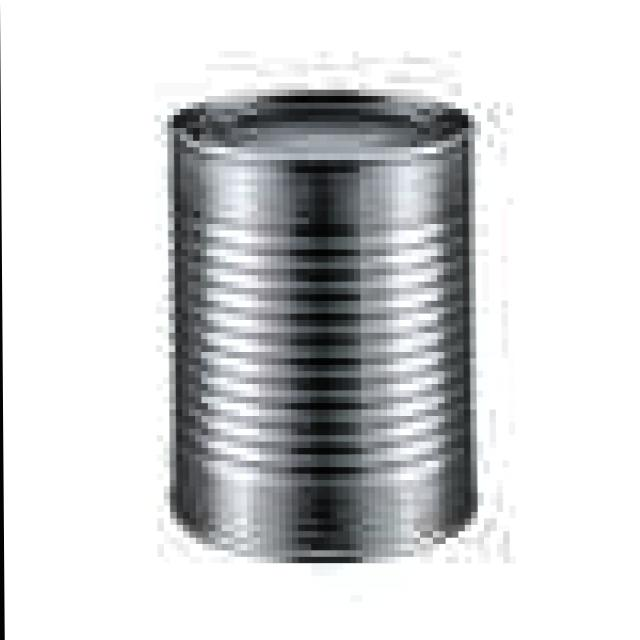can: (160, 67, 491, 588)
